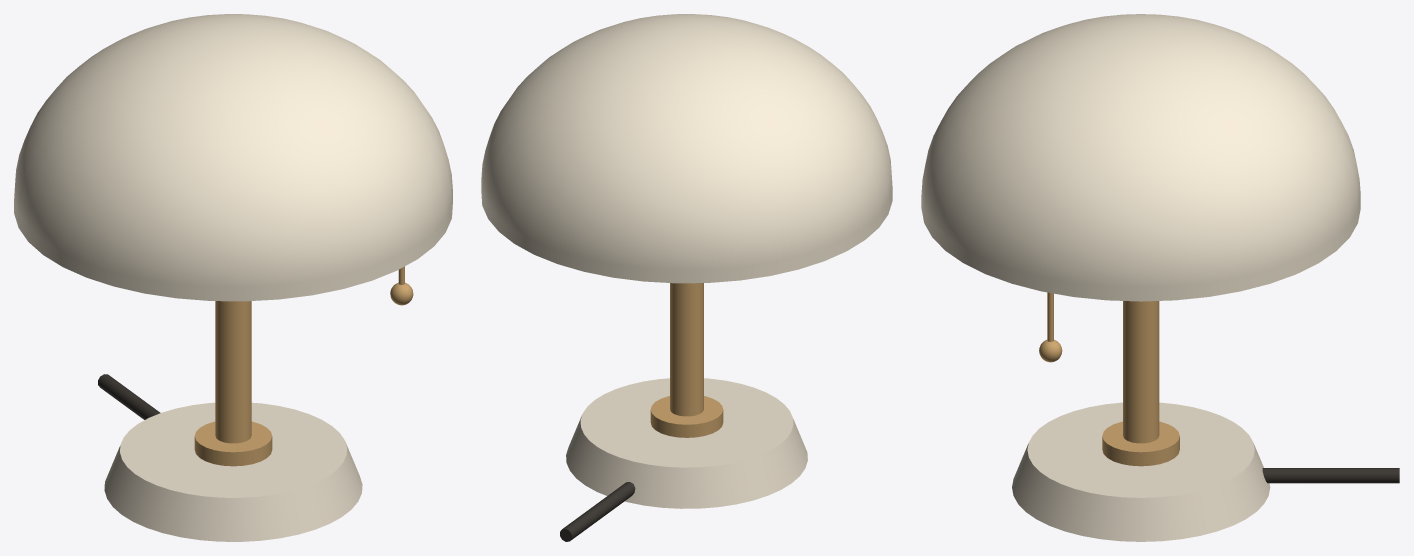
The model's file is lamp.glb.
The picture shows the model from 3 angles, left to right: view 1: azimuth 30°, elevation 25°; view 2: azimuth 150°, elevation 25°; view 3: azimuth 270°, elevation 25°; orthographic projection. The views are drawn at different scales.
Visible parts, largest first — view 1: Shade, Cream, Brass, Cord, Chain; view 2: Shade, Cream, Brass, Cord; view 3: Shade, Cream, Brass, Cord, Chain.
Part boxes in pixels (x1,y1,x2,y2): Shade: [14, 14, 452, 301]; Cream: [104, 402, 362, 541]; Brass: [194, 301, 272, 466]; Cord: [98, 374, 160, 419]; Chain: [390, 266, 413, 305]; Shade: [481, 14, 892, 283]; Cream: [566, 378, 807, 508]; Brass: [650, 283, 723, 437]; Cord: [560, 482, 635, 541]; Shade: [921, 14, 1360, 301]; Cream: [1012, 402, 1270, 541]; Brass: [1102, 301, 1179, 466]; Cord: [1262, 468, 1399, 483]; Chain: [1039, 292, 1062, 362].
Size of the model in its own units: 0.34 by 0.3826 by 0.37.
